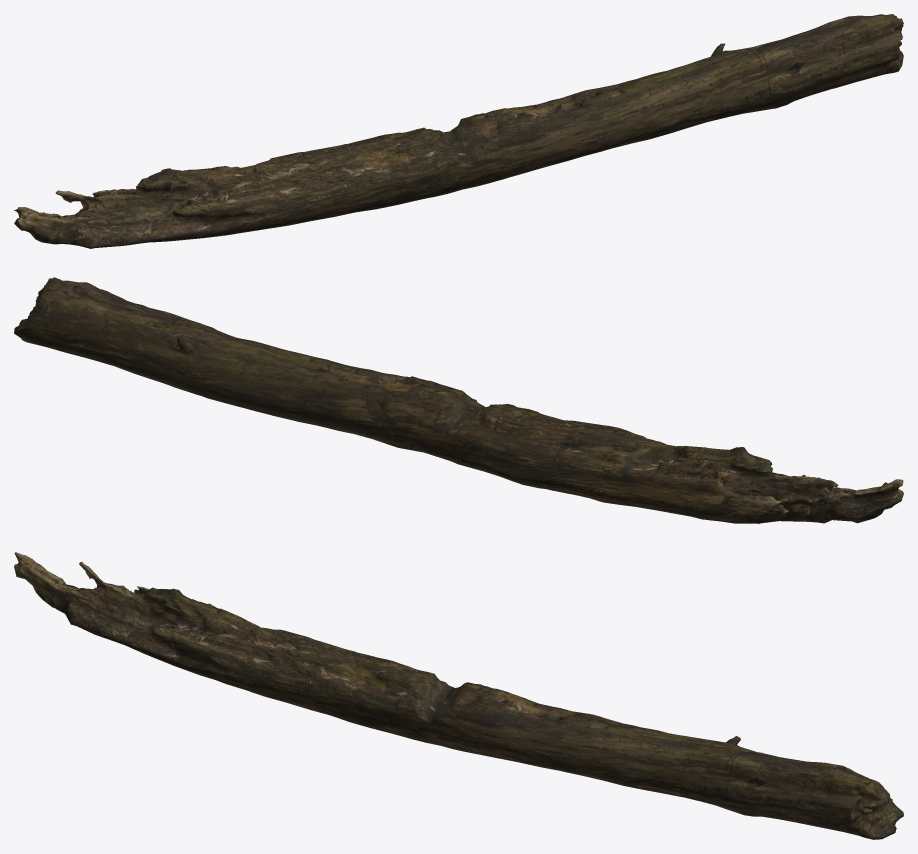
Rendered from dead_tree_trunk.glb.
The picture shows the model from 3 angles, top to bottom: view 1: azimuth 30°, elevation 25°; view 2: azimuth 150°, elevation 25°; view 3: azimuth 330°, elevation 25°; orthographic projection.
Parts seen in each view (by area): view 1: dead_tree_trunk; view 2: dead_tree_trunk; view 3: dead_tree_trunk.
Part boxes in pixels (box(x1,y1,x2,y2)): dead_tree_trunk: box(14, 14, 903, 248); dead_tree_trunk: box(14, 277, 903, 523); dead_tree_trunk: box(14, 552, 903, 839).
Bounding box in the file's own units: 3.05 × 0.2893 × 0.2766.
1 material, 1 textured.
